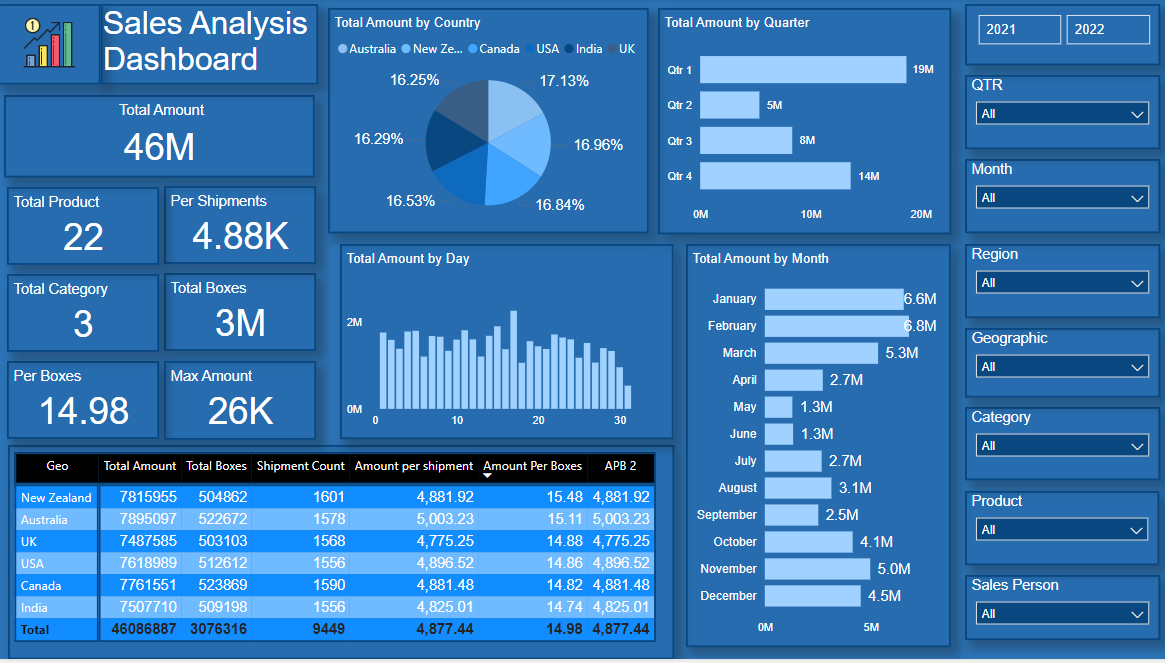

This screenshot's page, from the dashboard's own definition file:
{"tool":"powerbi","page":{"name":"Page 1","canvas":[1280,720],"ordinal":0},"visuals":[{"type":"card","title":"Total Amount","fields":{"Values":["sales.Total Amount"]},"box":[6.5,104.5,339.4,90.3],"z":0},{"type":"pivotTable","fields":{"Rows":["locations.Geo"],"Values":["sales.Total Amount","sales.Total Boxes","sales.Shipment Count","sales.Amount per shipment","sales.Amount Per Boxes","sales.APB 2"]},"box":[10.9,486.2,727,234.6],"z":1000},{"type":"card","title":"Total Boxes","fields":{"Values":["sales.Total Boxes"]},"box":[180.6,299.4,166.5,85.2],"z":2000},{"type":"slicer","title":"Region","fields":{"Values":["locations.Region"]},"box":[1055.5,266.9,212.9,81.3],"z":3000},{"type":"slicer","title":"Category","fields":{"Values":["products.Category"]},"box":[1055.5,445.7,212.9,80],"z":4000},{"type":"card","title":"Per Shipments","fields":{"Values":["sales.Amount per shipment"]},"box":[180.6,203.9,166.5,85.2],"z":5000},{"type":"card","title":"Per Boxes","fields":{"Values":["sales.Amount Per Boxes"]},"box":[10.3,394.8,166.5,85.2],"z":6000},{"type":"image","box":[0,5.2,112.3,87.7],"z":6001},{"type":"slicer","title":"Geographic","fields":{"Values":["locations.Geo"]},"box":[1055.5,358.9,212.9,76.1],"z":6002},{"type":"slicer","fields":{"Values":["calendar.Date.Variation.Date Hierarchy.Year"]},"box":[1055.5,5.2,212.9,67.1],"z":6003},{"type":"slicer","title":"Product","fields":{"Values":["sales.Product"]},"box":[1055.5,536.4,211.6,81.3],"z":6004},{"type":"slicer","title":"Sales Person","fields":{"Values":["sales.Sales Person"]},"box":[1055.5,628.4,212.9,71],"z":6005},{"type":"slicer","title":"Month","fields":{"Values":["calendar.Date.Variation.Date Hierarchy.Month"]},"box":[1055.5,174.9,212.9,81.3],"z":6006},{"type":"slicer","title":"QTR","fields":{"Values":["calendar.Date.Variation.Date Hierarchy.Quarter"]},"box":[1055.5,82.9,212.9,81.3],"z":6007},{"type":"actionButton","title":"Sales Analysis Dashboard","box":[112.3,5.2,237.4,87.7],"z":6008},{"type":"card","title":"Total Product","fields":{"Values":["Count(sales.Product)"]},"box":[10.3,204.7,166.5,85.2],"z":6009},{"type":"card","title":"Total Category","fields":{"Values":["Count(products.Category)"]},"box":[10.3,299.8,166.5,85.2],"z":6010},{"type":"card","title":"Max Amount","fields":{"Values":["Max(sales.Amount)"]},"box":[180.6,394.8,166.5,86.5],"z":6011},{"type":"pieChart","title":"Total Amount by Country","fields":{"Category":["locations.Geo"],"Y":["sales.Total Amount"]},"box":[360,10.3,349.7,246.5],"z":6012},{"type":"barChart","fields":{"Category":["calendar.Date.Variation.Date Hierarchy.Quarter"],"Y":["sales.Total Amount"]},"box":[720.2,9.8,319.7,246.6],"z":6013},{"type":"barChart","fields":{"Category":["calendar.Date.Variation.Date Hierarchy.Month"],"Y":["sales.Total Amount"]},"box":[750.8,267.3,289.2,452.9],"z":6014},{"type":"columnChart","fields":{"Category":["calendar.Date.Variation.Date Hierarchy.Day"],"Y":["sales.Total Amount"]},"box":[372.9,267.1,363.9,212.9],"z":6015}]}

Visuals, with their boxes in screenshot pixels (x1, y1, x2, y2), scaled from the page's 1280x720 canvas onto the 1165x663 screenshot:
"Total Amount" card: region(6, 96, 315, 179)
pivotTable - locations.Geo x sales.Total Amount: region(10, 448, 672, 662)
"Total Boxes" card: region(164, 276, 316, 354)
"Region" slicer: region(961, 246, 1154, 321)
"Category" slicer: region(961, 410, 1154, 484)
"Per Shipments" card: region(164, 188, 316, 266)
"Per Boxes" card: region(9, 364, 161, 442)
image: region(0, 5, 102, 86)
"Geographic" slicer: region(961, 330, 1154, 401)
slicer - calendar.Date.Variation.Date Hierarchy.Year: region(961, 5, 1154, 67)
"Product" slicer: region(961, 494, 1153, 569)
"Sales Person" slicer: region(961, 579, 1154, 644)
"Month" slicer: region(961, 161, 1154, 236)
"QTR" slicer: region(961, 76, 1154, 151)
"Sales Analysis Dashboard" actionButton: region(102, 5, 318, 86)
"Total Product" card: region(9, 188, 161, 267)
"Total Category" card: region(9, 276, 161, 355)
"Max Amount" card: region(164, 364, 316, 443)
"Total Amount by Country" pieChart: region(328, 9, 646, 236)
barChart - calendar.Date.Variation.Date Hierarchy.Quarter x sales.Total Amount: region(655, 9, 946, 236)
barChart - calendar.Date.Variation.Date Hierarchy.Month x sales.Total Amount: region(683, 246, 947, 662)
columnChart - calendar.Date.Variation.Date Hierarchy.Day x sales.Total Amount: region(339, 246, 671, 442)
